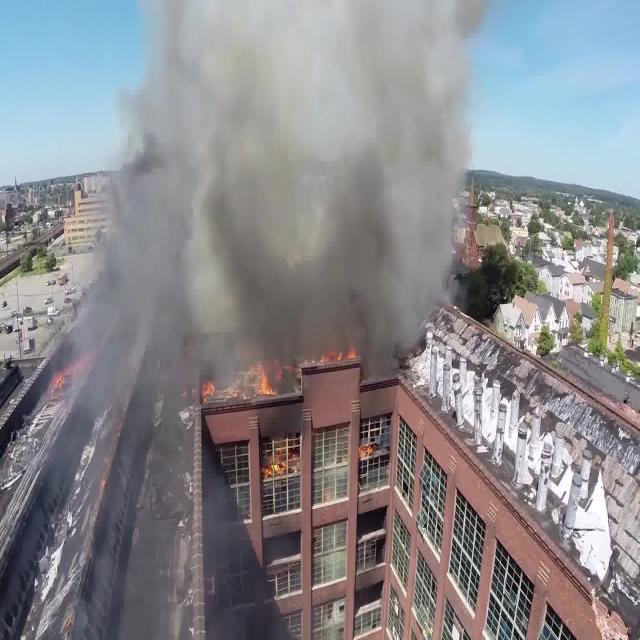Smoke: (72, 0, 485, 393), (200, 342, 360, 413)
